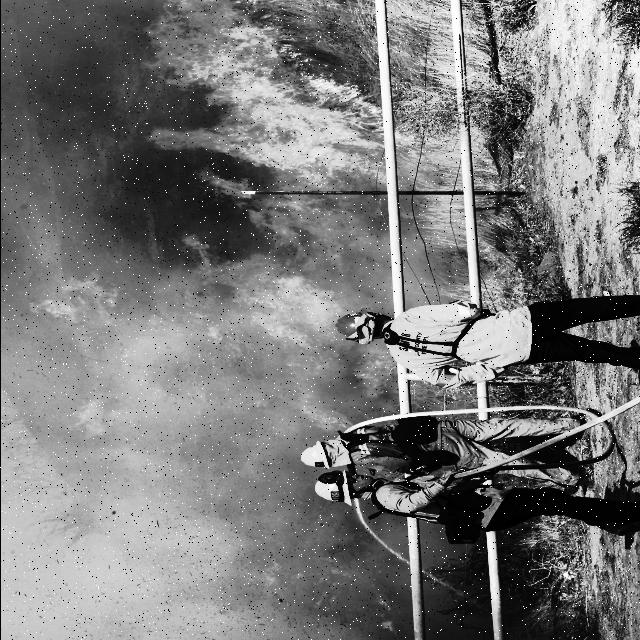api: (137, 1, 417, 203), (177, 238, 350, 378), (296, 399, 366, 436), (66, 271, 130, 308), (70, 397, 114, 441), (25, 297, 89, 323), (366, 349, 400, 395)
